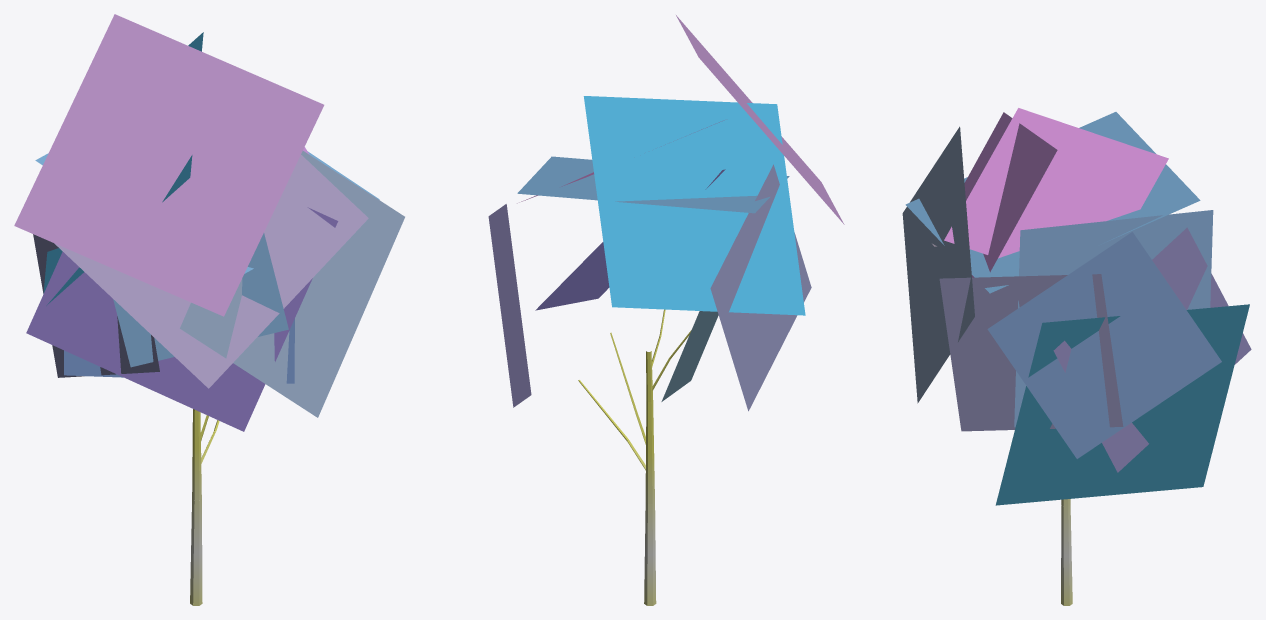
Rendered from tree_aspen_3.glb.
The picture shows the model from 3 angles, left to right: view 1: azimuth 30°, elevation 25°; view 2: azimuth 150°, elevation 25°; view 3: azimuth 270°, elevation 25°; orthographic projection. The views are drawn at different scales.
Parts seen in each view (by area): view 1: tree_aspen_3; view 2: tree_aspen_3; view 3: tree_aspen_3.
Boxes of the visible parts, x1,y1,x2,y2 form: tree_aspen_3: (14, 14, 404, 605); tree_aspen_3: (488, 15, 844, 605); tree_aspen_3: (902, 108, 1251, 605).
Bounding box in the file's own units: 8.32 × 12.58 × 7.71.
